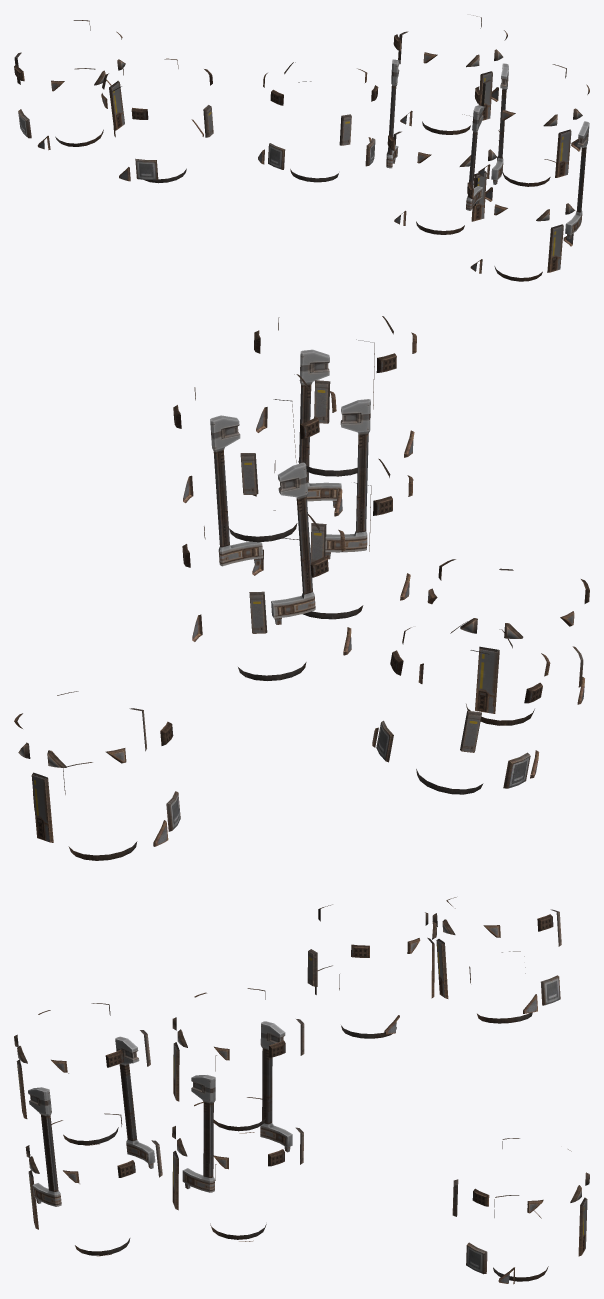
Rendered from prop_static_generic_container_01_07_0.glb.
3 views of the same model, one above another, from view 1: azimuth 30°, elevation 25°; view 2: azimuth 150°, elevation 25°; view 3: azimuth 270°, elevation 25° (orthographic). The views are drawn at different scales.
Visible parts, largest first — view 1: generic_container_01_07_LOD0; view 2: generic_container_01_07_LOD0; view 3: generic_container_01_07_LOD0.
Boxes of the visible parts, bbox=[...] form: generic_container_01_07_LOD0: bbox=[14, 15, 589, 281]; generic_container_01_07_LOD0: bbox=[14, 316, 589, 860]; generic_container_01_07_LOD0: bbox=[14, 897, 589, 1284].
Size of what is drawn, in the model's own units: 5.75 by 3.33 by 6.6.
Materials: 1 (1 with a texture image).
